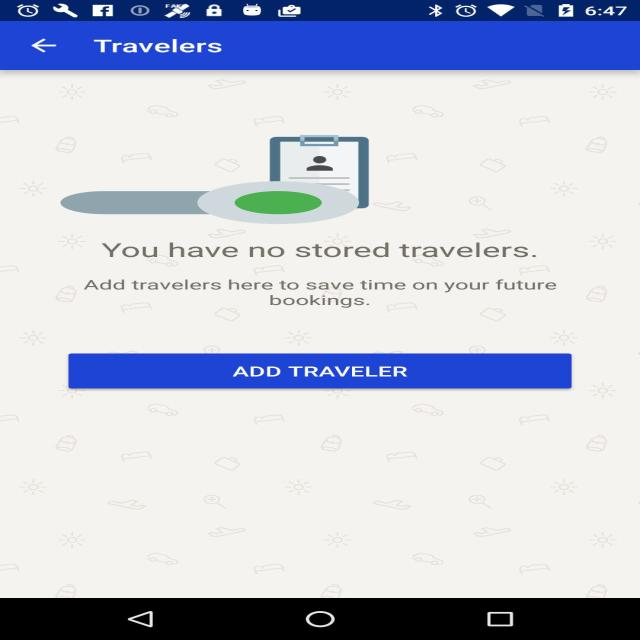social proof: (61, 163, 359, 242)
